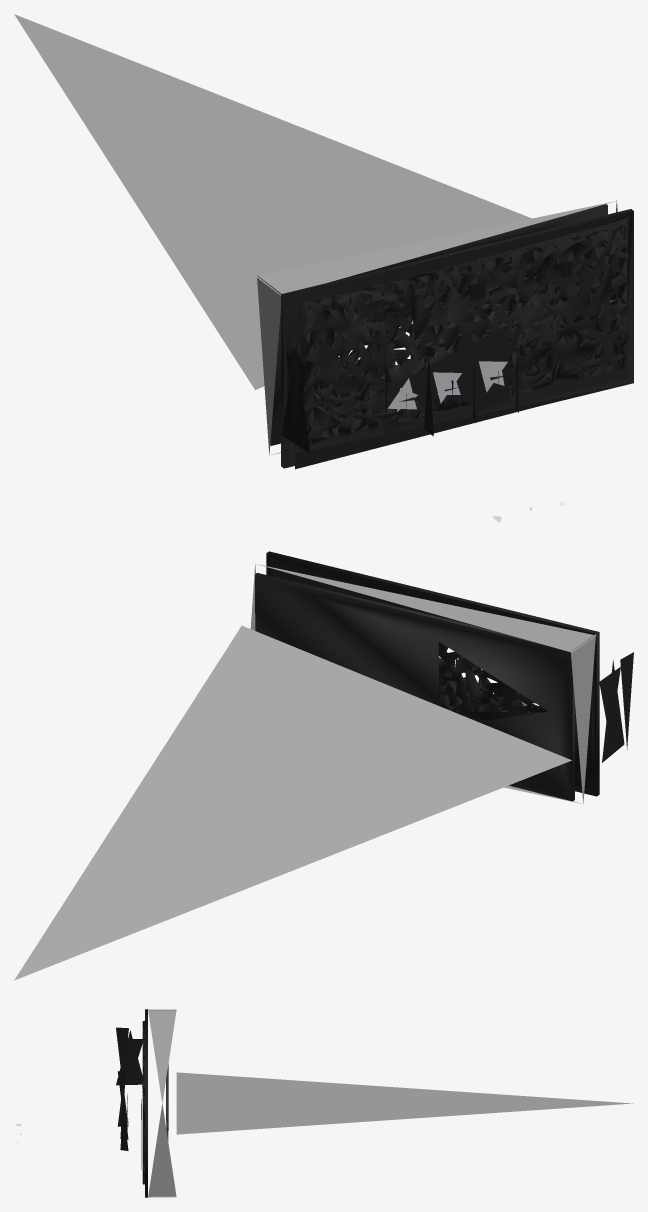
File: PWR-C6-715WDC.far.glb
3 renders of one model, top to bottom at view 1: azimuth 30°, elevation 25°; view 2: azimuth 150°, elevation 25°; view 3: azimuth 270°, elevation 25°, orthographic. The views are drawn at different scales.
Visible parts, largest first — view 1: Body_far; view 2: Body_far; view 3: Body_far.
Part boxes in pixels (x1,y1,x2,y2): Body_far: (14,14,633,522); Body_far: (14,551,633,980); Body_far: (15,1009,633,1197).
Bounding box in the file's own units: 0.0864 × 0.0397 × 0.2345.
Materials: 2 (1 with a texture image).
